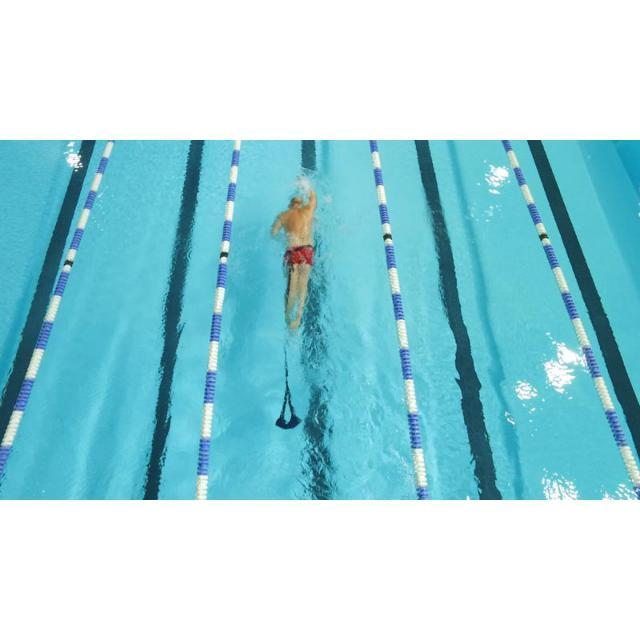human: (269, 172, 323, 330)
